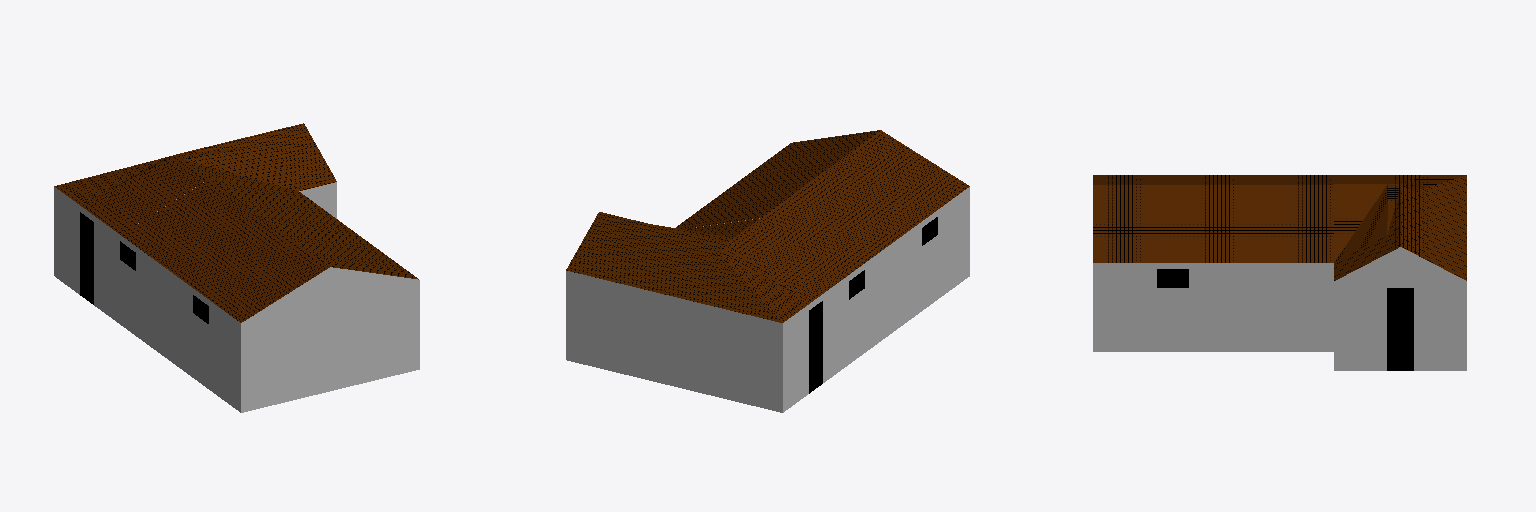
3 renders of one model, left to right at view 1: azimuth 30°, elevation 25°; view 2: azimuth 150°, elevation 25°; view 3: azimuth 270°, elevation 25°, orthographic.
Size of the model in its own units: 13.02 by 7.13 by 19.47.
Materials: 3 (2 with a texture image).